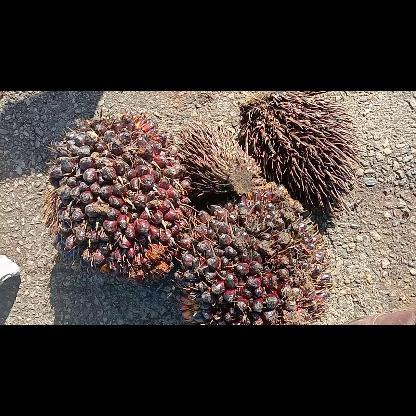Janjang kosong: (238, 90, 362, 218), (174, 120, 260, 196)
TBS mentah: (41, 111, 197, 285), (173, 182, 333, 324)
